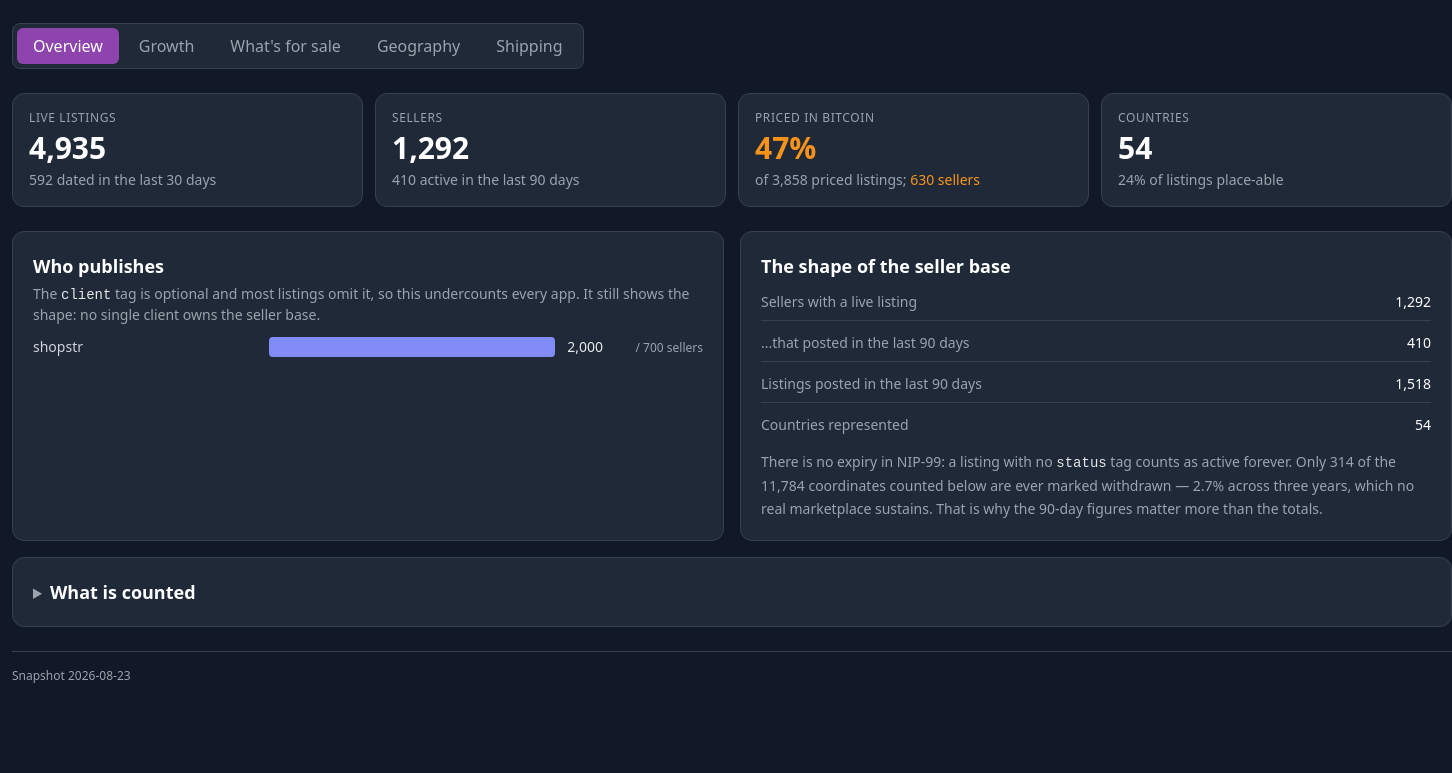
/marketplaces page (DB-powered) › dates the caption by its day alone when generated_utc carries no time
Step 1. Click the link with id "tab-growth" → point(167, 46), box top-left (139, 35), bottom-right (194, 57)
(page scrolled)
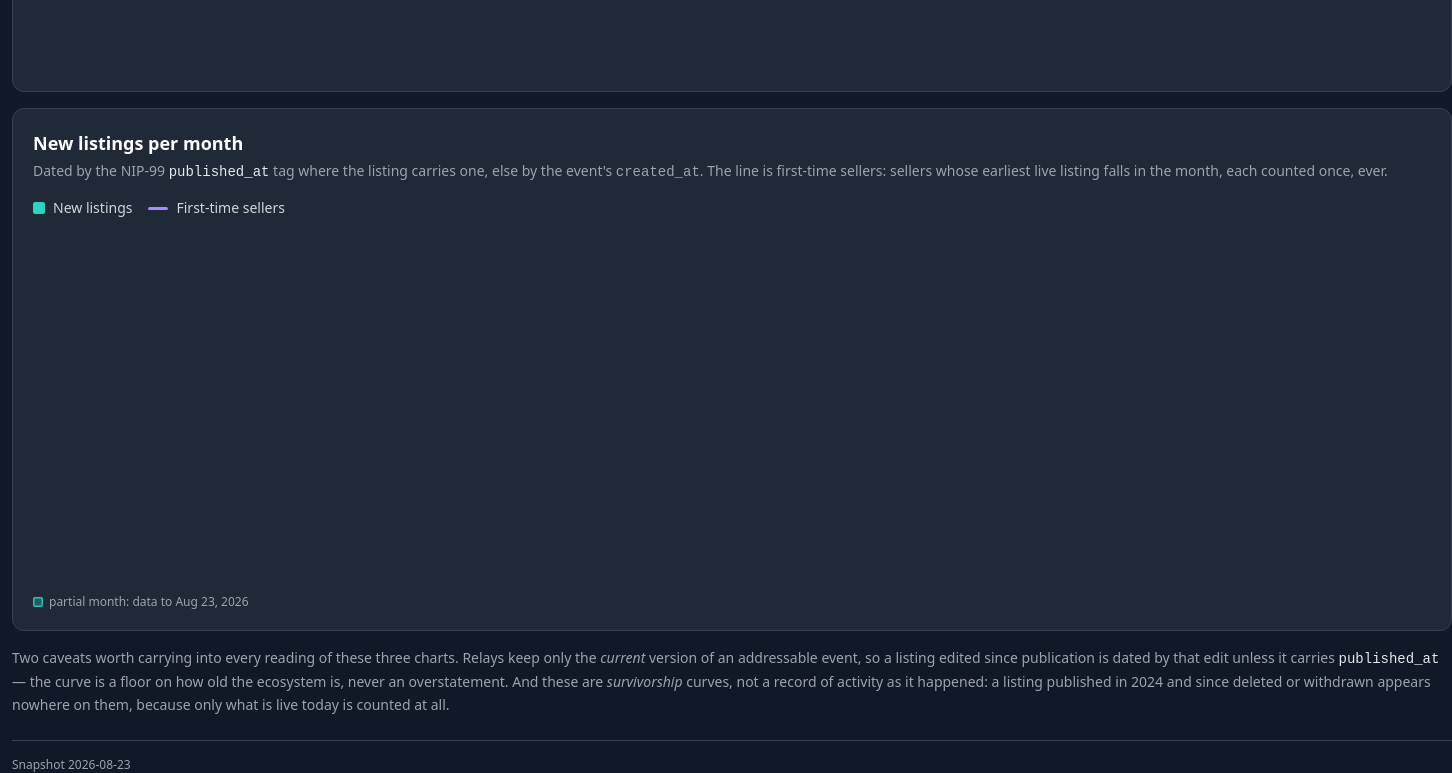
Expected: the list item "partial month: data to Aug 23, 2026" is shown, top-left (33, 594), bottom-right (248, 610)
